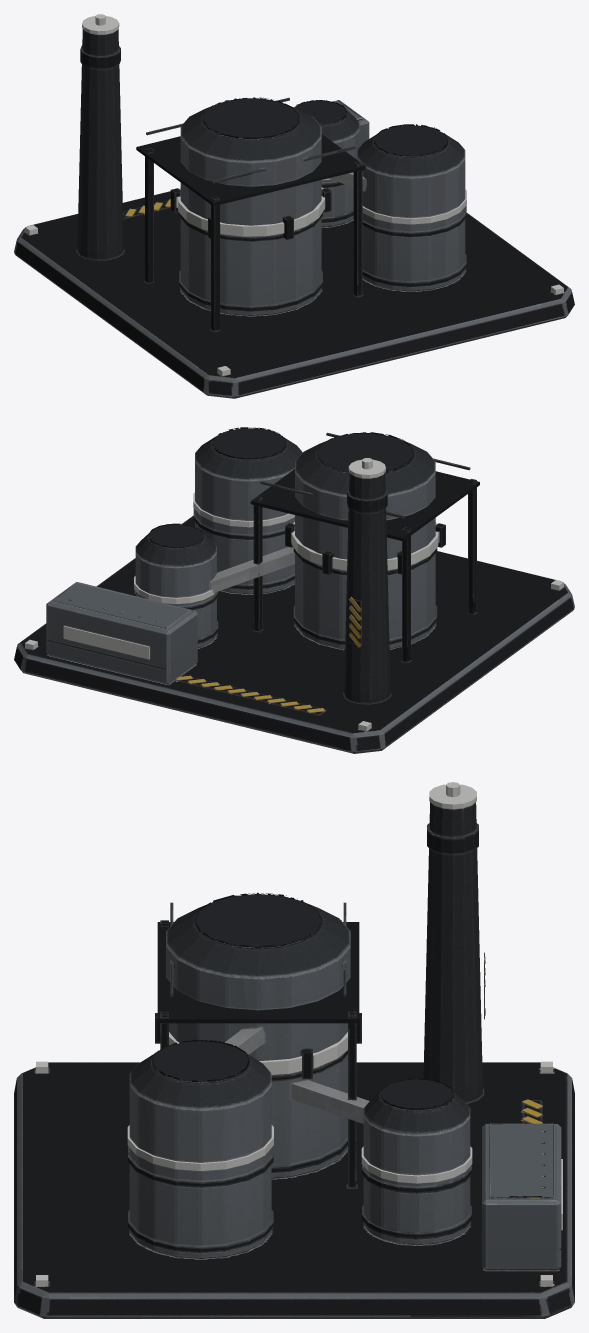
File: chs_generator.fbx
The picture shows the model from 3 angles, top to bottom: view 1: azimuth 30°, elevation 25°; view 2: azimuth 150°, elevation 25°; view 3: azimuth 270°, elevation 25°; orthographic projection. The views are drawn at different scales.
Parts seen in each view (by area): view 1: base_bar, core_glow_power_bar, base_glow_power_bar, core_bar; view 2: base_bar, base_glow_power_bar, core_glow_power_bar, core_bar, base_glow_running_bar; view 3: base_bar, base_glow_power_bar, core_glow_power_bar, base_glow_running_bar.
Boxes of the visible parts, box(x1,y1,x2,y2) form: base_bar: box(14, 28, 574, 398); core_glow_power_bar: box(178, 187, 324, 236); base_glow_power_bar: box(82, 16, 466, 224); core_bar: box(170, 188, 331, 239); base_bar: box(14, 427, 574, 753); base_glow_power_bar: box(63, 459, 385, 659); core_glow_power_bar: box(291, 522, 438, 570); core_bar: box(285, 523, 445, 574); base_glow_running_bar: box(25, 458, 563, 731); base_bar: box(14, 802, 574, 1318); base_glow_power_bar: box(127, 784, 562, 1230); core_glow_power_bar: box(169, 1032, 347, 1074); base_glow_running_bar: box(36, 782, 552, 1286).
Bounding box in the file's own units: 1556 × 1215 × 1556.
Materials: 2 (2 with a texture image).
